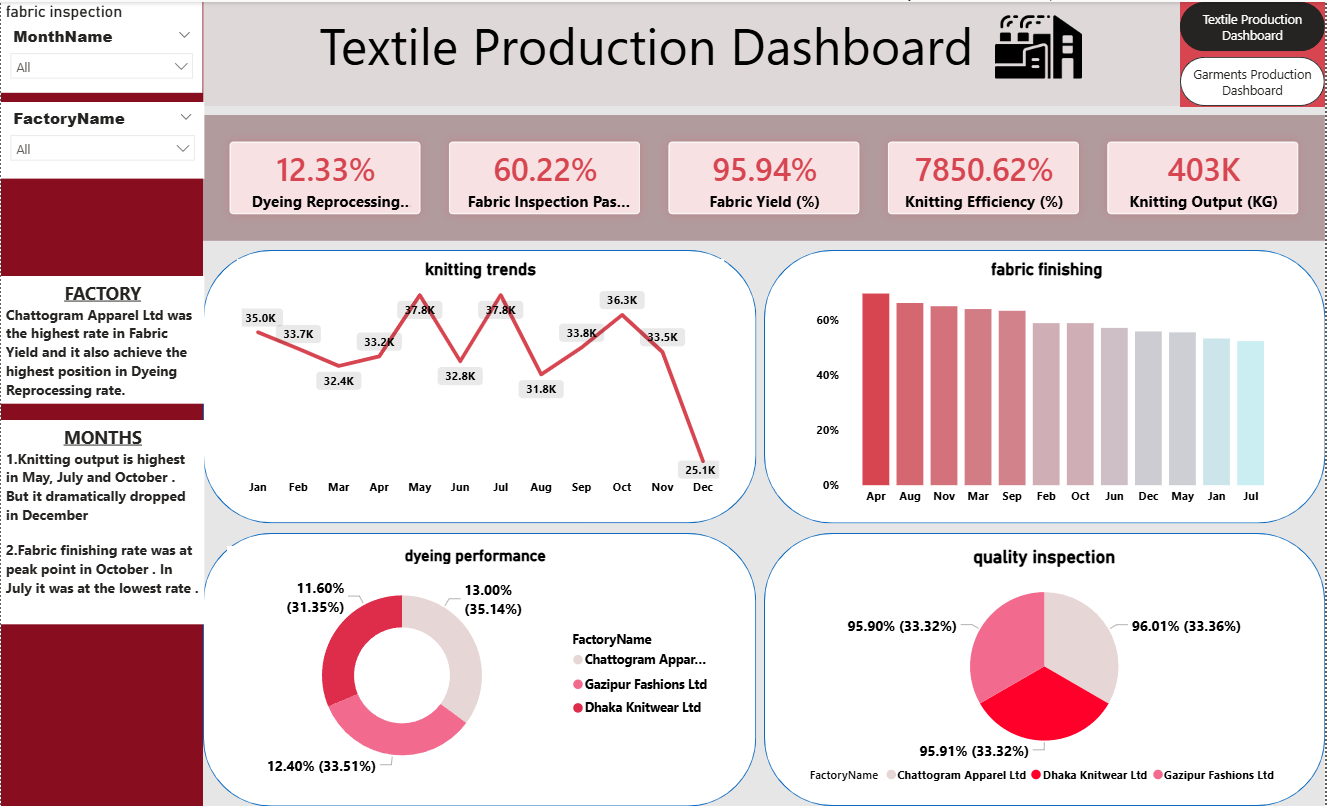

What the dashboard file says about the page in this screenshot:
{"tool":"powerbi","page":{"name":"Textile Production Dashboard","canvas":[1400,850],"ordinal":0},"visuals":[{"type":"shape","box":[213.8,0,1186.2,130.9],"z":0},{"type":"shape","box":[0,0,213.8,850],"z":1000},{"type":"textbox","box":[257.4,3.2,848.9,103.2],"z":2000},{"type":"textbox","box":[213.8,109.6,1186.2,740.4],"z":3000},{"type":"shape","box":[213,560.9,584.8,289.1],"z":4000},{"type":"shape","box":[213.6,261.7,585.2,288.9],"z":5000},{"type":"shape","box":[806.8,561.4,593.2,288.6],"z":6000},{"type":"shape","box":[806.5,262,593.5,289.1],"z":7000},{"type":"lineChart","title":"knitting trends","fields":{"Category":["dim_date.MonthName"],"Y":["Measure.Knitting Output (KG)"]},"box":[249.4,271.6,514.8,259.3],"z":8000},{"type":"pieChart","title":"quality inspection","fields":{"Category":["dim_factory.FactoryName"],"Y":["Measure.Fabric Yield (%)"]},"box":[839.5,575.3,527.2,260.5],"z":9000},{"type":"clusteredColumnChart","title":"fabric finishing","fields":{"Y":["Measure.Fabric Inspection Pass Rate (%)"],"Category":["dim_date.MonthName"]},"box":[856.8,271.6,498.8,269.1],"z":10000},{"type":"donutChart","title":"dyeing performance","fields":{"Y":["Measure.Dyeing Reprocessing Rate (%)"],"Category":["dim_factory.FactoryName"]},"box":[238.6,575,525,254.5],"z":11000},{"type":"cardVisual","fields":{"Data":["Measure.Dyeing Reprocessing Rate (%)","Measure.Fabric Inspection Pass Rate (%)","Measure.Fabric Yield (%)","Measure.Knitting Efficiency (%)","Measure.Knitting Output (KG)"]},"box":[213.6,119.8,1186.4,133.3],"z":12000},{"type":"slicer","fields":{"Values":["dim_factory.FactoryName"]},"box":[0,105.7,214.8,80.7],"z":13000},{"type":"slicer","title":"fabric inspection ","fields":{"Values":["dim_date.MonthName"]},"box":[0,0,213.2,96.1],"z":14000},{"type":"textbox","box":[0,289.9,215.2,135.4],"z":15000},{"type":"pageNavigator","box":[1246,0,154,110.7],"z":16000},{"type":"image","box":[946.9,0,299.1,95.5],"z":17000},{"type":"textbox","box":[0,441.8,215.2,216.5],"z":18000}]}

Visuals, with their boxes in screenshot pixels (x1, y1, x2, y2), scaled from the page's 1400x850 canvas onto the 1327x806 screenshot:
shape: bbox=(203, 0, 1326, 124)
shape: bbox=(0, 0, 203, 805)
textbox: bbox=(244, 3, 1049, 101)
textbox: bbox=(203, 104, 1326, 805)
shape: bbox=(202, 532, 756, 805)
shape: bbox=(202, 248, 757, 522)
shape: bbox=(765, 532, 1326, 805)
shape: bbox=(764, 248, 1326, 523)
"knitting trends" lineChart: bbox=(236, 258, 724, 503)
"quality inspection" pieChart: bbox=(796, 546, 1295, 793)
"fabric finishing" clusteredColumnChart: bbox=(812, 258, 1285, 513)
"dyeing performance" donutChart: bbox=(226, 545, 724, 787)
cardVisual - Measure.Dyeing Reprocessing Rate (%) x Measure.Fabric Inspection Pass Rate (%): bbox=(202, 114, 1326, 240)
slicer - dim_factory.FactoryName: bbox=(0, 100, 204, 177)
"fabric inspection " slicer: bbox=(0, 0, 202, 91)
textbox: bbox=(0, 275, 204, 403)
pageNavigator: bbox=(1181, 0, 1326, 105)
image: bbox=(898, 0, 1181, 91)
textbox: bbox=(0, 419, 204, 624)
